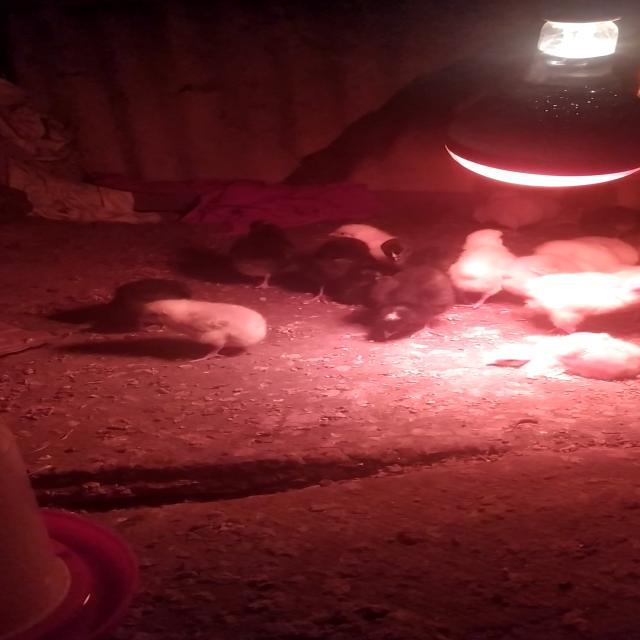chick: (135, 298, 270, 363), (481, 331, 640, 382), (523, 271, 640, 335), (365, 264, 459, 340), (444, 228, 520, 308), (295, 236, 378, 306), (218, 221, 296, 290), (104, 276, 197, 331), (530, 238, 640, 272), (501, 254, 575, 300), (328, 223, 404, 260), (469, 198, 547, 234), (380, 238, 463, 270), (575, 206, 640, 238)
